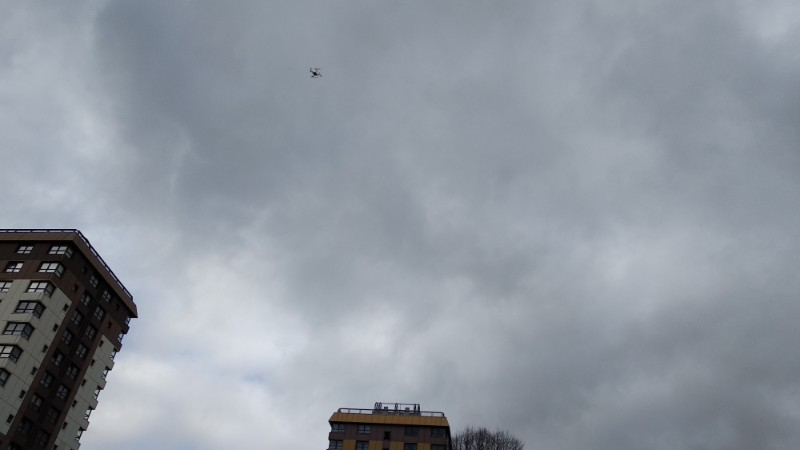drone: (308, 69, 324, 79)
